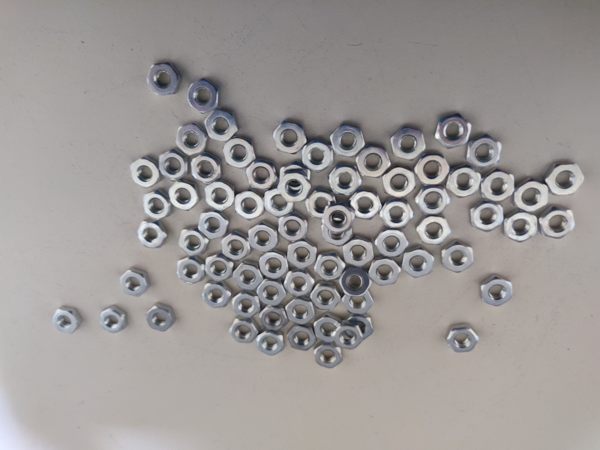nut: (549, 160, 586, 197), (436, 112, 471, 149), (540, 206, 575, 241), (391, 124, 426, 159), (356, 144, 392, 178), (190, 77, 222, 115), (148, 61, 182, 96), (329, 163, 364, 197), (515, 178, 549, 212), (273, 120, 307, 154), (332, 122, 366, 156), (449, 165, 484, 198), (440, 241, 476, 273), (176, 121, 208, 156), (503, 212, 539, 243), (206, 108, 238, 142), (157, 147, 191, 179), (468, 136, 503, 167), (381, 198, 416, 229), (302, 138, 333, 173), (479, 276, 515, 306), (277, 173, 314, 202), (483, 171, 515, 204), (383, 166, 416, 198), (418, 152, 450, 185), (130, 154, 161, 188), (417, 215, 451, 246), (468, 204, 505, 232), (223, 136, 256, 167), (416, 186, 451, 215), (146, 302, 178, 333), (403, 247, 434, 279), (343, 235, 375, 266), (202, 180, 233, 212), (177, 225, 209, 256), (376, 228, 409, 258), (174, 254, 207, 284), (445, 323, 479, 352), (322, 219, 357, 247), (52, 305, 83, 336), (370, 256, 402, 286), (264, 184, 294, 216), (234, 189, 267, 218), (278, 163, 312, 191), (99, 305, 130, 335), (288, 239, 318, 270), (351, 191, 383, 220), (248, 220, 277, 252), (305, 192, 338, 220), (192, 154, 222, 184), (170, 181, 200, 211), (120, 269, 151, 298), (198, 210, 229, 239), (222, 232, 253, 261), (233, 262, 263, 291), (137, 221, 168, 249), (279, 212, 307, 243), (228, 317, 259, 345), (257, 278, 286, 307), (203, 282, 235, 308), (317, 253, 346, 281), (248, 160, 277, 188), (233, 291, 260, 321), (141, 193, 172, 219), (342, 289, 373, 315), (286, 271, 318, 296), (205, 254, 233, 282), (314, 343, 344, 369), (287, 298, 317, 324), (261, 251, 288, 279), (343, 269, 371, 296), (346, 313, 373, 341), (313, 284, 342, 310), (289, 326, 317, 352), (335, 324, 363, 350), (327, 208, 355, 233), (315, 316, 340, 343), (258, 332, 284, 356), (262, 307, 286, 332)
